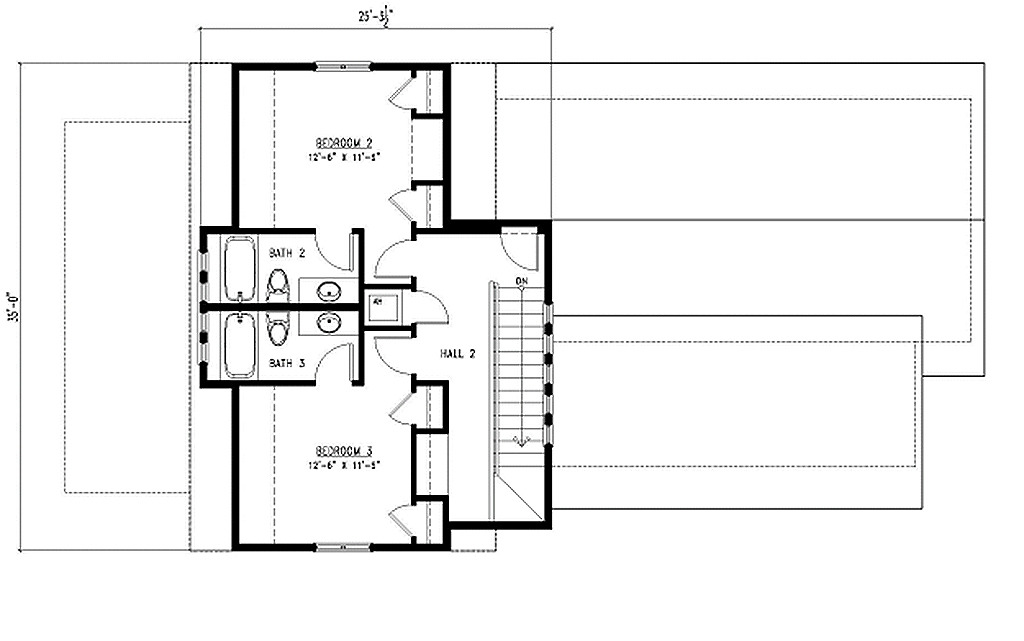door: (309, 341, 358, 385), (314, 227, 357, 275), (499, 226, 540, 271), (375, 237, 417, 280), (368, 335, 414, 374), (388, 178, 418, 225), (414, 290, 452, 325), (382, 390, 417, 426), (383, 501, 416, 539), (389, 74, 418, 114)
large_sink: (261, 267, 291, 305), (266, 309, 291, 346)
small_sink: (294, 308, 358, 337), (297, 278, 360, 303)
stairs: (489, 276, 550, 529)
tub: (214, 232, 258, 303), (218, 312, 259, 383)
windows: (195, 247, 207, 365), (312, 61, 373, 76), (312, 541, 369, 554)
